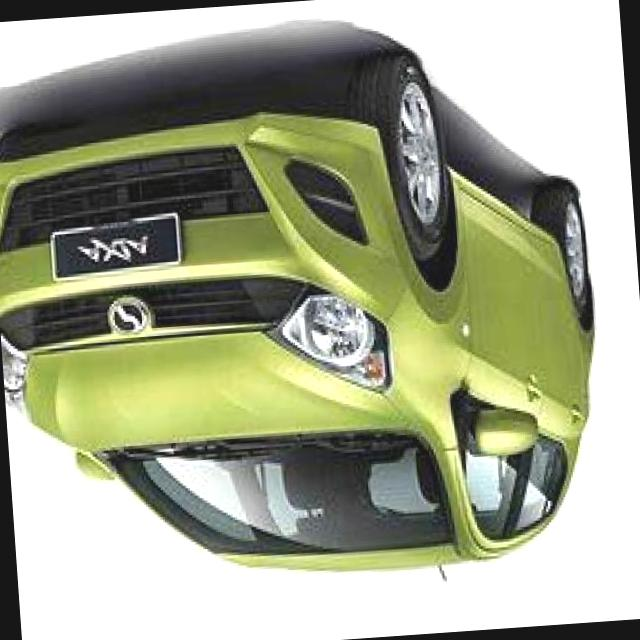PeroduaAxia: (0, 37, 613, 610)
